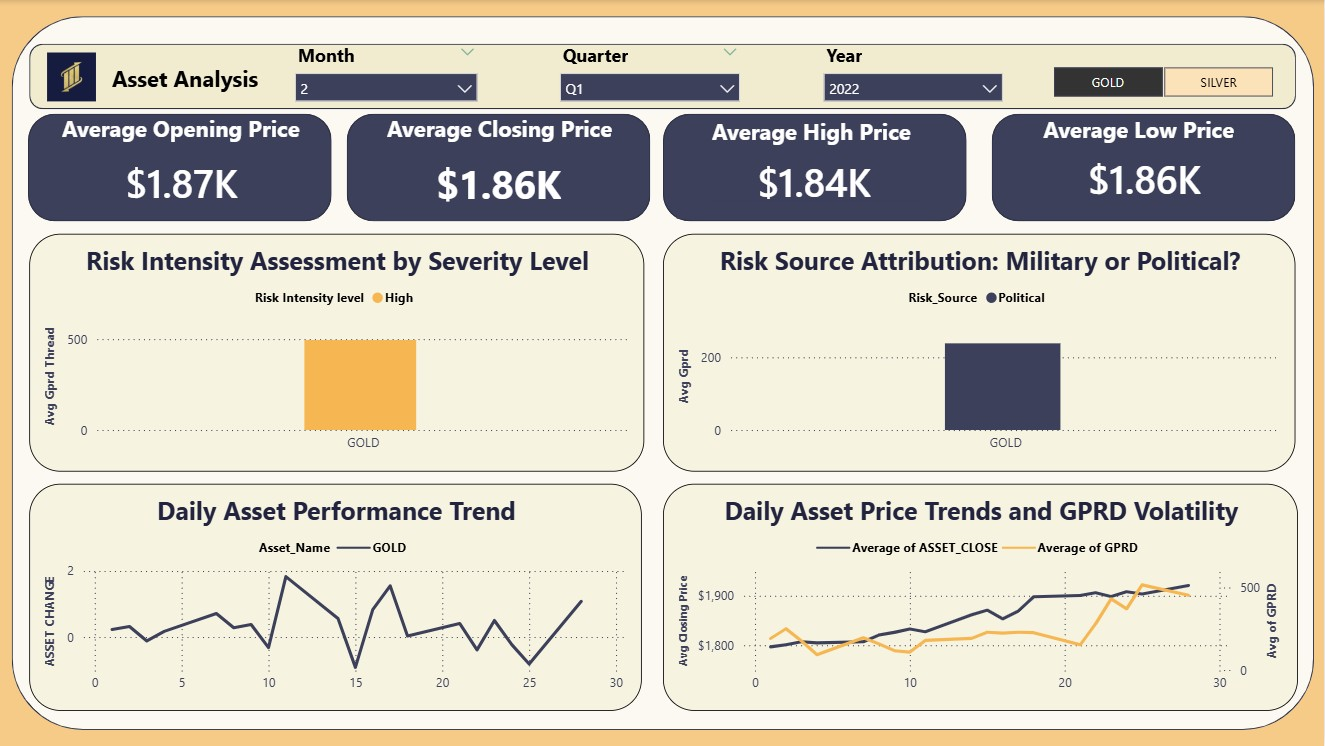

The page's visual inventory and layout, read from the dashboard file:
{"tool":"powerbi","page":{"name":"Page 1","canvas":[1280,720],"ordinal":0},"visuals":[{"type":"shape","box":[13.7,15.1,1257,688.9],"z":0},{"type":"shape","box":[30.2,42.5,1222.6,63.1],"z":1000},{"type":"lineChart","title":"Daily Asset Price Trends and GPRD Volatility","fields":{"Y":["Avg(FACT_ASSET_PRICE.ASSET_CLOSE)"],"Y2":["Avg(FACT_ASSET_PRICE.GPRD)"],"Category":["DIM_DATE.Date.Variation.Date Hierarchy.Day"]},"box":[641.8,466.9,612.9,219.6],"z":2000},{"type":"slicer","fields":{"Values":["DIM_ASSET.Asset_Name"]},"box":[992.9,57.9,261.8,42.2],"z":3000},{"type":"slicer","fields":{"Values":["DIM_DATE.Year"]},"box":[786.6,36.2,193,63.9],"z":4000},{"type":"slicer","fields":{"Values":["DIM_DATE.Quarter"]},"box":[532,36.2,194.2,71.2],"z":5000},{"type":"slicer","fields":{"Values":["DIM_DATE.Month"]},"box":[276.3,36.2,196.6,73.6],"z":6000},{"type":"lineChart","title":"Daily Asset Performance Trend","fields":{"Y":["Avg(FACT_ASSET_PRICE.ASSET_CHANGE)"],"Series":["DIM_ASSET.Asset_Name"],"Category":["DIM_DATE.Date.Variation.Date Hierarchy.Day"]},"box":[30.2,466.9,591.2,219.6],"z":7000},{"type":"clusteredColumnChart","title":"Risk Source Attribution: Military or Political?","fields":{"Y":["Avg(FACT_ASSET_PRICE.GPRD)"],"Category":["DIM_ASSET.Asset_Name"],"Series":["DIM_GEOPOLTICALRISK.Risk_Source"]},"box":[641.8,225.6,610.5,229.2],"z":8000},{"type":"clusteredColumnChart","title":"Risk Intensity Assessment by Severity Level","fields":{"Category":["DIM_ASSET.Asset_Name"],"Series":["DIM_GEOPOLTICALRISK.Risk_Category"],"Y":["Avg(FACT_ASSET_PRICE.GPRD_THREAT)"]},"box":[30.2,225.6,593.6,229.2],"z":9000},{"type":"shape","box":[959.1,109.8,293.2,103.8],"z":10000},{"type":"shape","box":[641.8,109.8,293.2,103.8],"z":11000},{"type":"shape","box":[336.6,109.8,293.2,103.8],"z":12000},{"type":"shape","box":[29,109.8,293.2,103.8],"z":13000},{"type":"cardVisual","fields":{"Data":["Avg(FACT_ASSET_PRICE.ASSET_LOW)"]},"box":[963.9,132.7,283.5,74.8],"z":14000},{"type":"cardVisual","fields":{"Data":["Avg(FACT_ASSET_PRICE.ASSET_HIGH)"]},"box":[655.1,135.1,263,76],"z":15000},{"type":"cardVisual","fields":{"Data":["Avg(FACT_ASSET_PRICE.ASSET_OPEN)"]},"box":[43.4,136.9,265.4,74.8],"z":16000},{"type":"textbox","box":[684.1,107.4,250.9,54.3],"z":17000},{"type":"textbox","box":[56.7,103.8,250.9,54.3],"z":18000},{"type":"textbox","box":[1003.8,105,250.9,54.3],"z":19000},{"type":"textbox","box":[370.4,103.8,250.9,54.3],"z":20000},{"type":"cardVisual","fields":{"Data":["Avg(FACT_ASSET_PRICE.ASSET_CLOSE)"]},"box":[359.5,138.7,247.3,74.8],"z":21000},{"type":"textbox","box":[105,55.5,153.2,49.5],"z":22000},{"type":"image","box":[29,50.7,84.5,47.1],"z":23000}]}

Visuals, with their boxes in screenshot pixels (x1, y1, x2, y2), scaled from the page's 1280x720 canvas onto the 1325x746 screenshot:
shape: {"x1": 14, "y1": 16, "x2": 1315, "y2": 729}
shape: {"x1": 31, "y1": 44, "x2": 1297, "y2": 109}
"Daily Asset Price Trends and GPRD Volatility" lineChart: {"x1": 664, "y1": 484, "x2": 1299, "y2": 711}
slicer - DIM_ASSET.Asset_Name: {"x1": 1028, "y1": 60, "x2": 1299, "y2": 104}
slicer - DIM_DATE.Year: {"x1": 814, "y1": 38, "x2": 1014, "y2": 104}
slicer - DIM_DATE.Quarter: {"x1": 551, "y1": 38, "x2": 752, "y2": 111}
slicer - DIM_DATE.Month: {"x1": 286, "y1": 38, "x2": 490, "y2": 114}
"Daily Asset Performance Trend" lineChart: {"x1": 31, "y1": 484, "x2": 643, "y2": 711}
"Risk Source Attribution: Military or Political?" clusteredColumnChart: {"x1": 664, "y1": 234, "x2": 1296, "y2": 471}
"Risk Intensity Assessment by Severity Level" clusteredColumnChart: {"x1": 31, "y1": 234, "x2": 646, "y2": 471}
shape: {"x1": 993, "y1": 114, "x2": 1296, "y2": 221}
shape: {"x1": 664, "y1": 114, "x2": 968, "y2": 221}
shape: {"x1": 348, "y1": 114, "x2": 652, "y2": 221}
shape: {"x1": 30, "y1": 114, "x2": 334, "y2": 221}
cardVisual - Avg(FACT_ASSET_PRICE.ASSET_LOW): {"x1": 998, "y1": 137, "x2": 1291, "y2": 215}
cardVisual - Avg(FACT_ASSET_PRICE.ASSET_HIGH): {"x1": 678, "y1": 140, "x2": 950, "y2": 219}
cardVisual - Avg(FACT_ASSET_PRICE.ASSET_OPEN): {"x1": 45, "y1": 142, "x2": 320, "y2": 219}
textbox: {"x1": 708, "y1": 111, "x2": 968, "y2": 168}
textbox: {"x1": 59, "y1": 108, "x2": 318, "y2": 164}
textbox: {"x1": 1039, "y1": 109, "x2": 1299, "y2": 165}
textbox: {"x1": 383, "y1": 108, "x2": 643, "y2": 164}
cardVisual - Avg(FACT_ASSET_PRICE.ASSET_CLOSE): {"x1": 372, "y1": 144, "x2": 628, "y2": 221}
textbox: {"x1": 109, "y1": 58, "x2": 267, "y2": 109}
image: {"x1": 30, "y1": 53, "x2": 117, "y2": 101}
